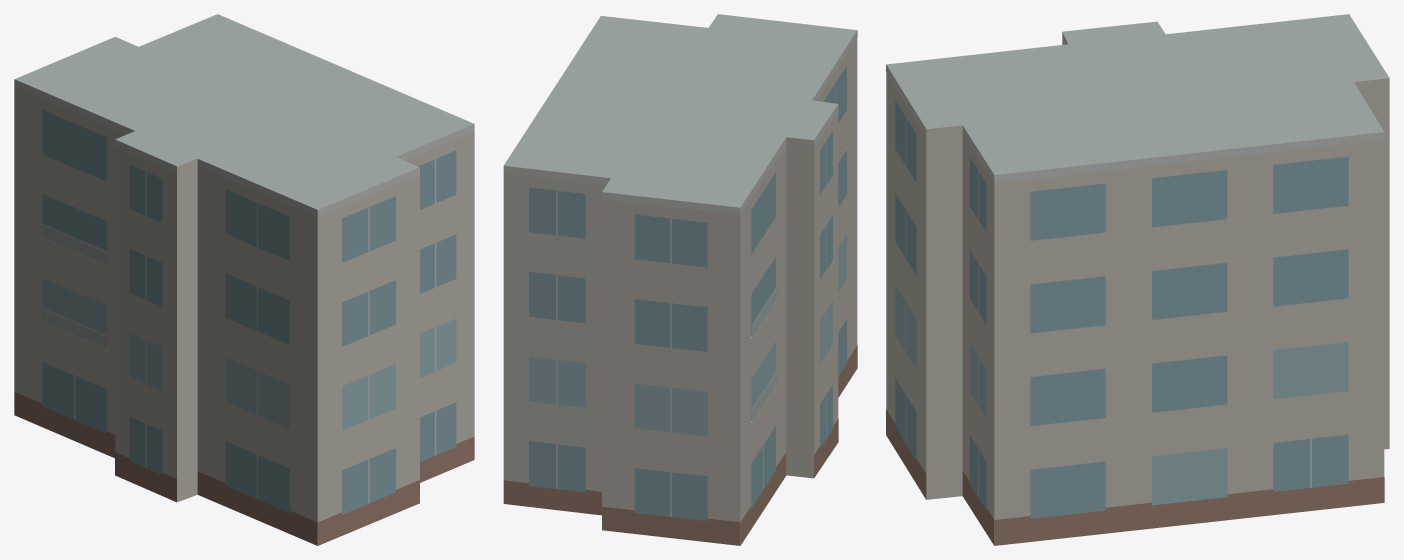
File: survey-upis-32650923.glb
The picture shows the model from 3 angles, left to right: view 1: azimuth 30°, elevation 25°; view 2: azimuth 150°, elevation 25°; view 3: azimuth 270°, elevation 25°; orthographic projection. The views are drawn at different scales.
Visible parts, largest first — view 1: survey-upis-32650923.tmp; view 2: survey-upis-32650923.tmp; view 3: survey-upis-32650923.tmp.
Boxes of the visible parts, box(x1,y1,x2,y2) form: survey-upis-32650923.tmp: box(14, 14, 474, 545); survey-upis-32650923.tmp: box(503, 14, 857, 545); survey-upis-32650923.tmp: box(886, 14, 1389, 545).
Size of the model in its own units: 10.22 by 10.95 by 13.49.
